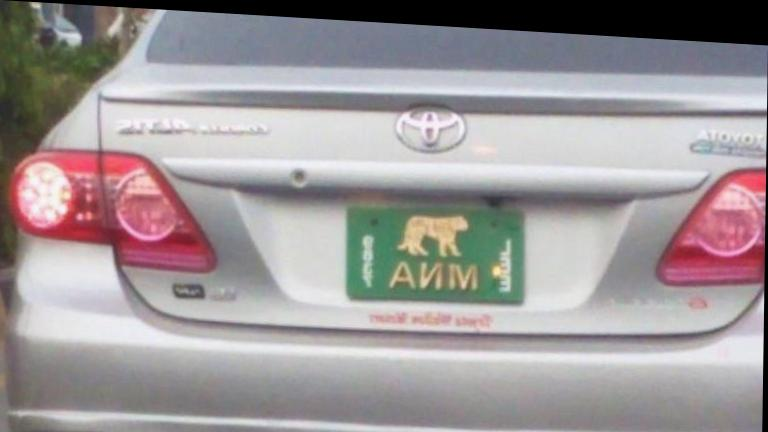License_Plate: (340, 198, 531, 312)
